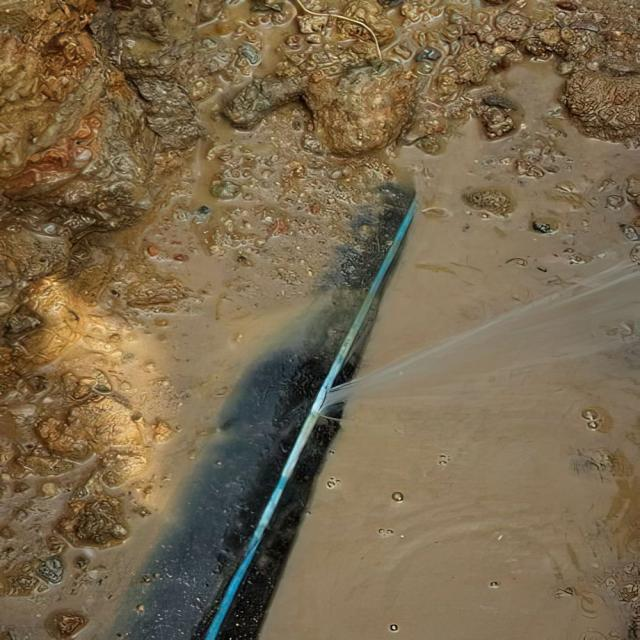leak: (323, 266, 639, 407)
